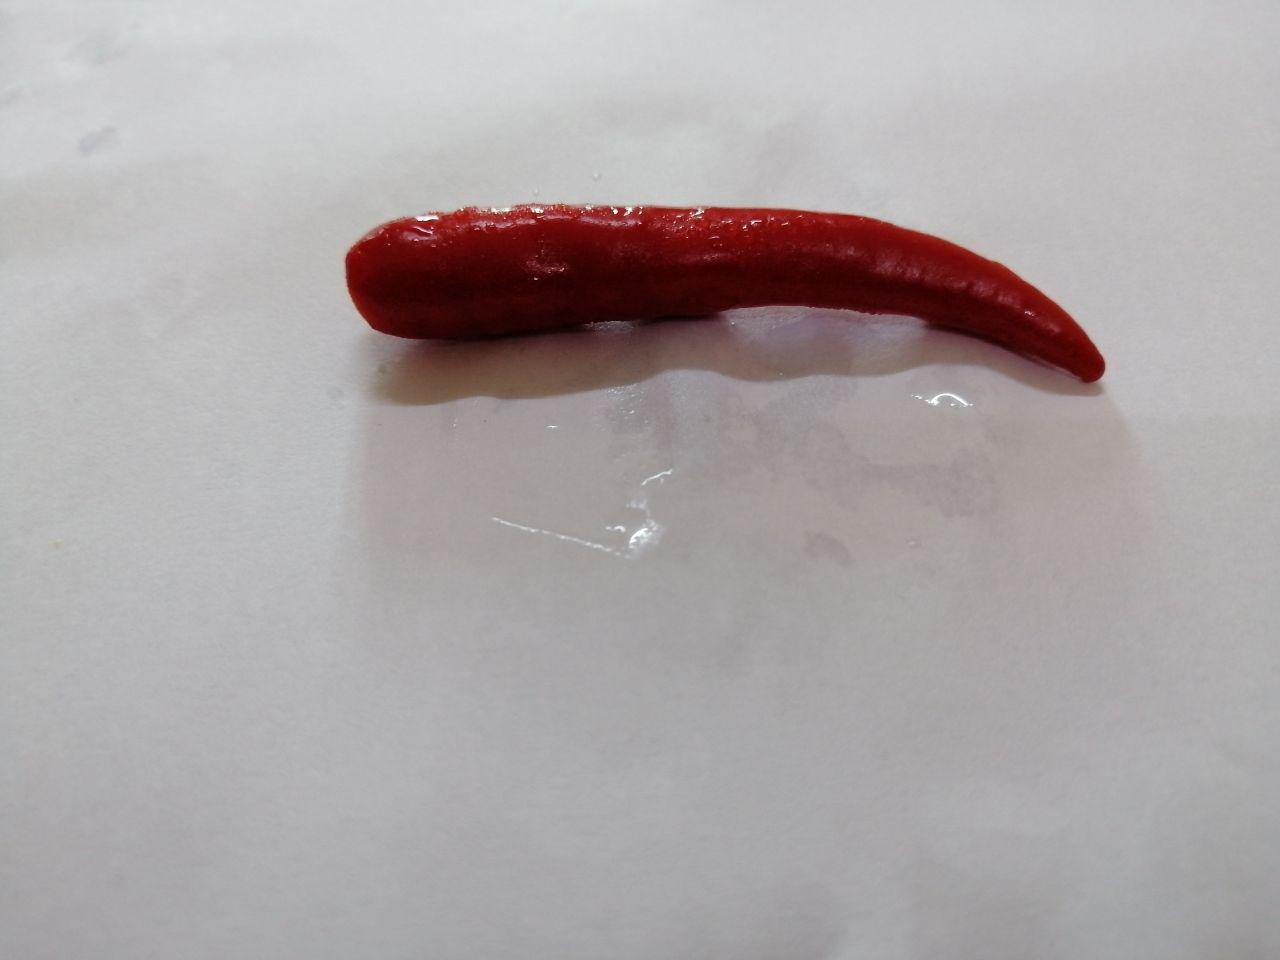lada merah: (305, 168, 1140, 427)
